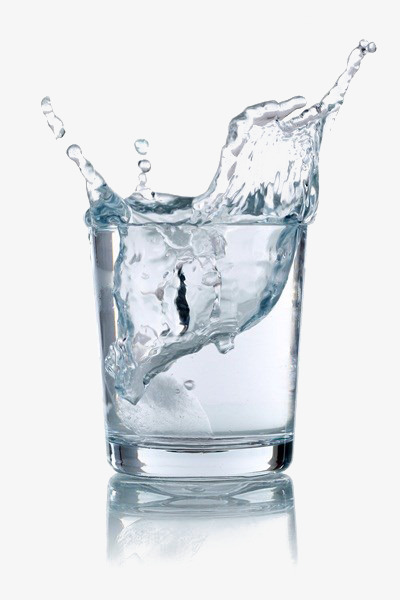glass of water: (89, 186, 310, 485)
